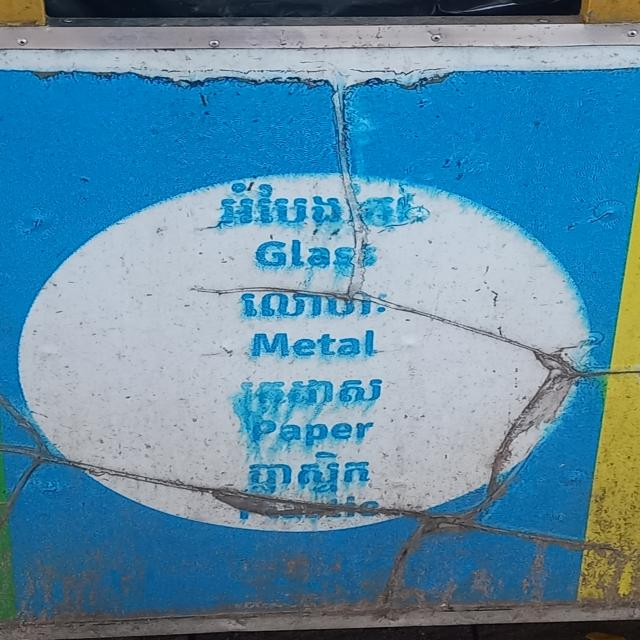Yolov11kh: (203, 179, 447, 231), (235, 368, 398, 418), (226, 282, 401, 324), (240, 448, 383, 496)
